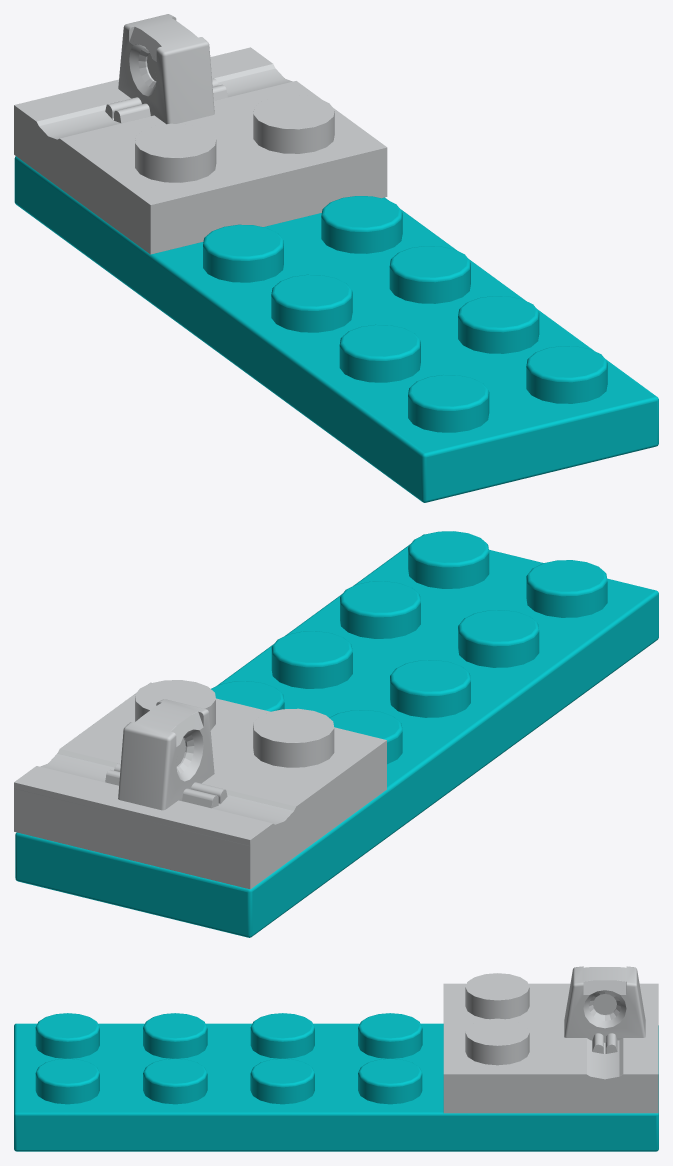
The model's file is Passo10.fbx.
3 renders of one model, top to bottom at view 1: azimuth 30°, elevation 25°; view 2: azimuth 150°, elevation 25°; view 3: azimuth 270°, elevation 25°, orthographic. The views are drawn at different scales.
Parts seen in each view (by area): view 1: Plate_2x6, Hinge_plate_2x2; view 2: Plate_2x6, Hinge_plate_2x2; view 3: Plate_2x6, Hinge_plate_2x2.
Boxes of the visible parts, x1,y1,x2,y2 form: Plate_2x6: [14, 156, 658, 502]; Hinge_plate_2x2: [14, 14, 387, 254]; Plate_2x6: [15, 531, 658, 937]; Hinge_plate_2x2: [14, 680, 386, 889]; Plate_2x6: [14, 1013, 658, 1151]; Hinge_plate_2x2: [443, 966, 658, 1113].
Size of the model in its own units: 0.1602 by 0.1096 by 0.4799.
